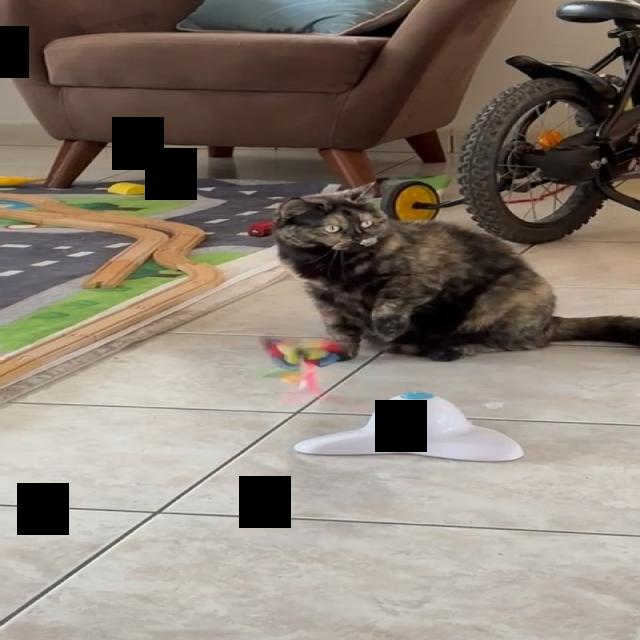authorized: (269, 183, 639, 362)
